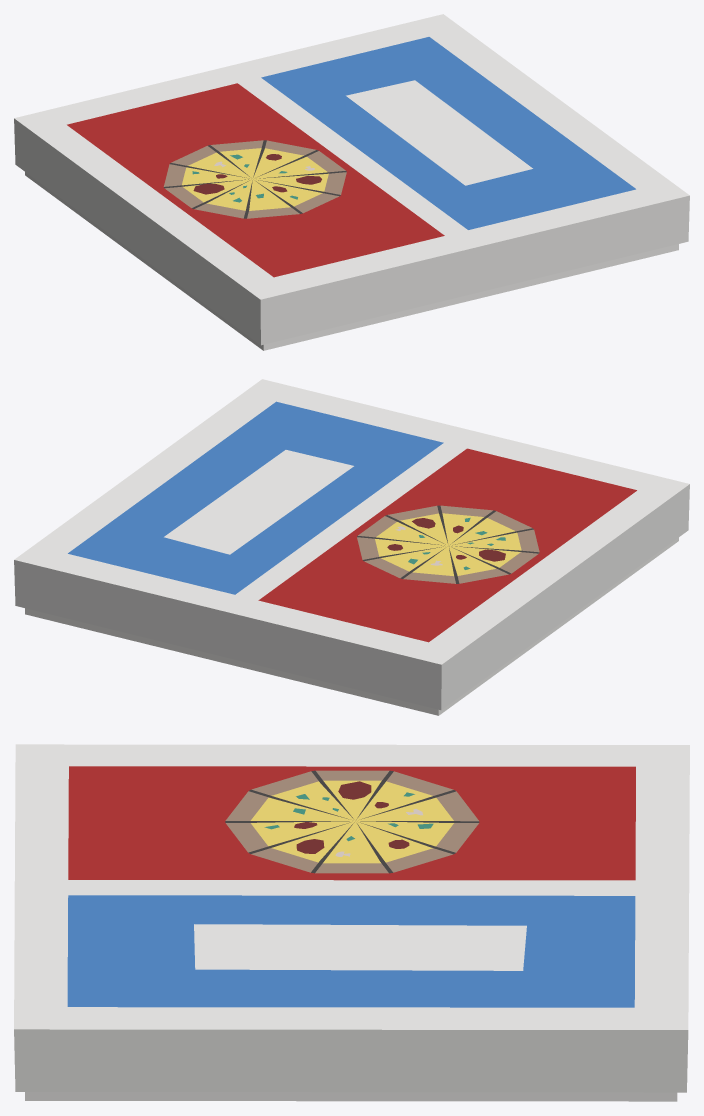
Rendered from Pizza_Box.fbx.
The picture shows the model from 3 angles, top to bottom: view 1: azimuth 30°, elevation 25°; view 2: azimuth 150°, elevation 25°; view 3: azimuth 270°, elevation 25°; orthographic projection. The views are drawn at different scales.
Visible parts, largest first — view 1: Pizza_Box; view 2: Pizza_Box; view 3: Pizza_Box.
Part boxes in pixels (left/top/right/bottom): Pizza_Box: left=14, top=14, right=689, bottom=350; Pizza_Box: left=14, top=379, right=689, bottom=715; Pizza_Box: left=14, top=744, right=689, bottom=1101.
Size of the model in its own units: 61.63 by 61.63 by 7.9.
